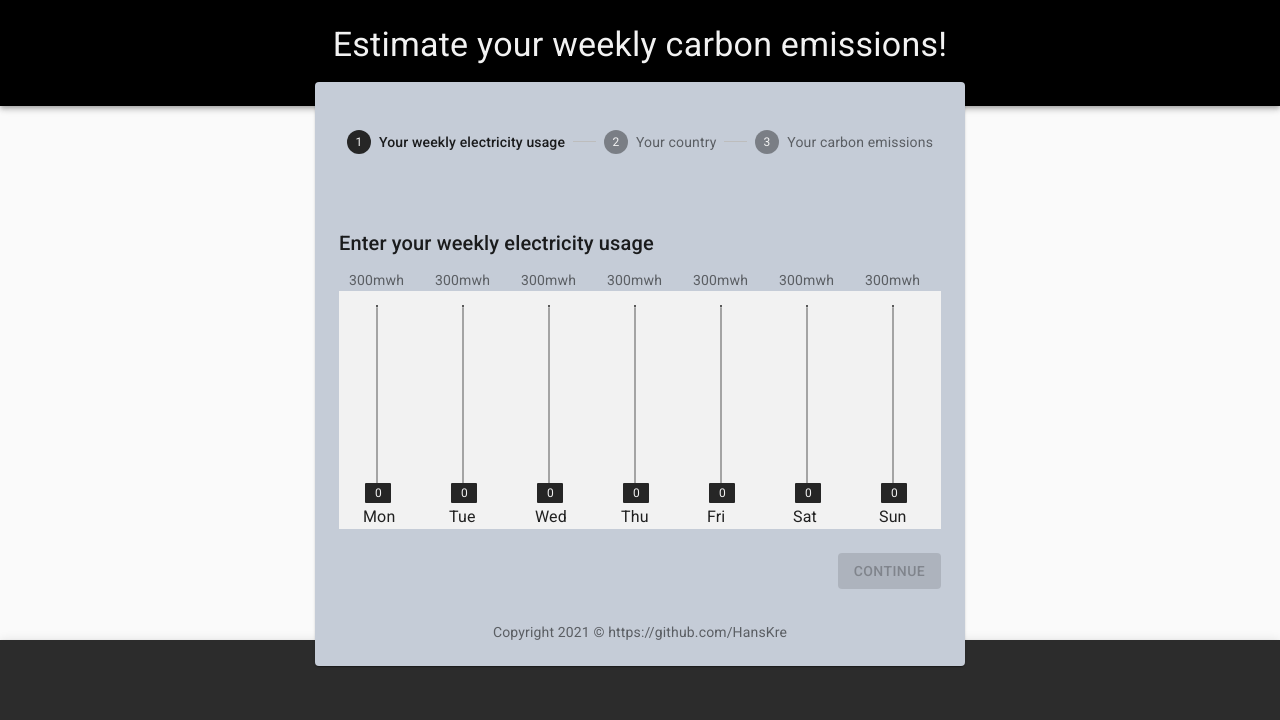
User Journey › Desktop › Emissions Interactions › continue-button should be disabled and back-button enabled
This screenshot has width=1280, height=720.
Click the 4th slider labelled "0" at (636, 493), box [623,483,649,503]
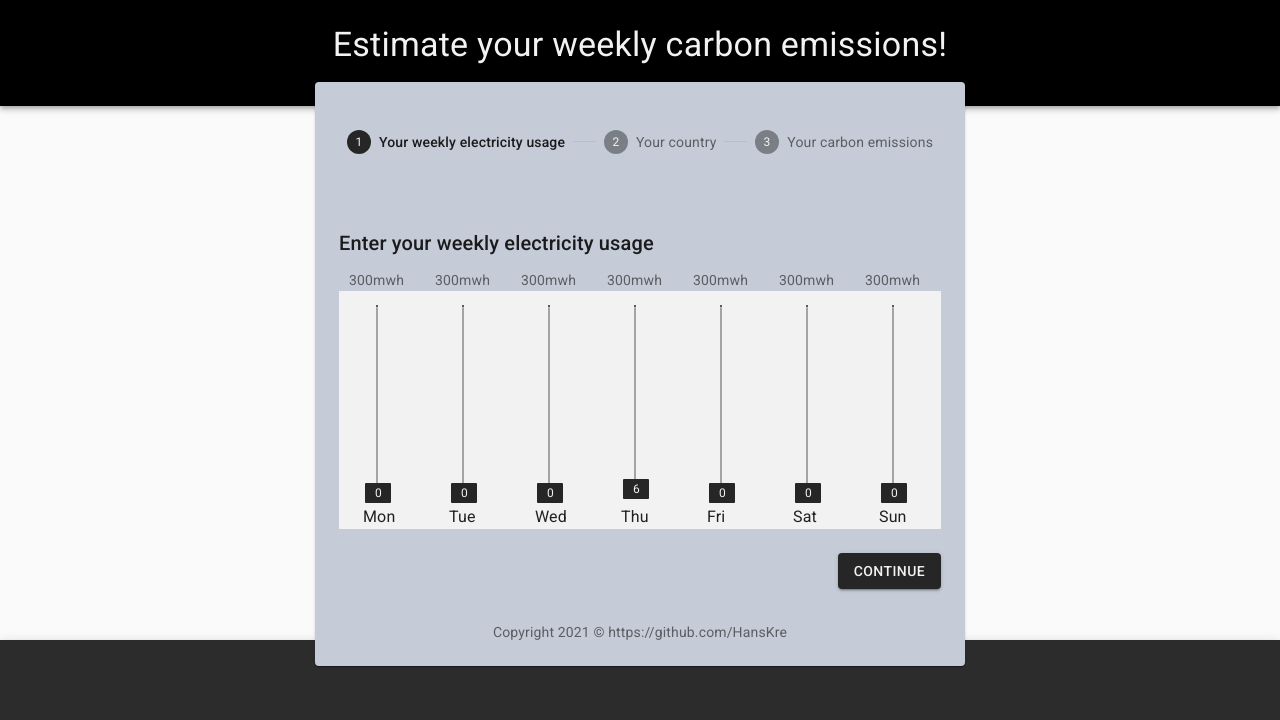
Click the button with id "continue-btn" at (890, 572), box [838,553,941,590]
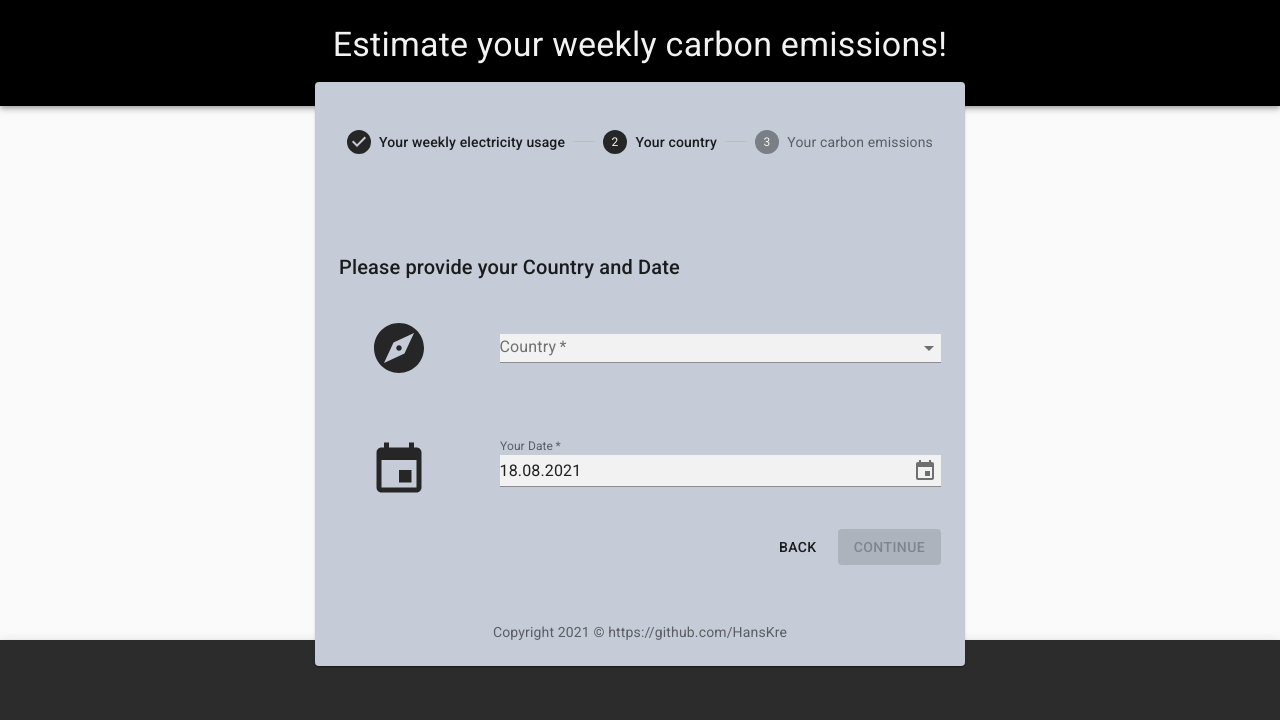
Check: the heading "Please provide your Country and Date" is shown, box [339,255,680,279]
Click the button with id "country-select" at (721, 349), box [500,334,942,363]
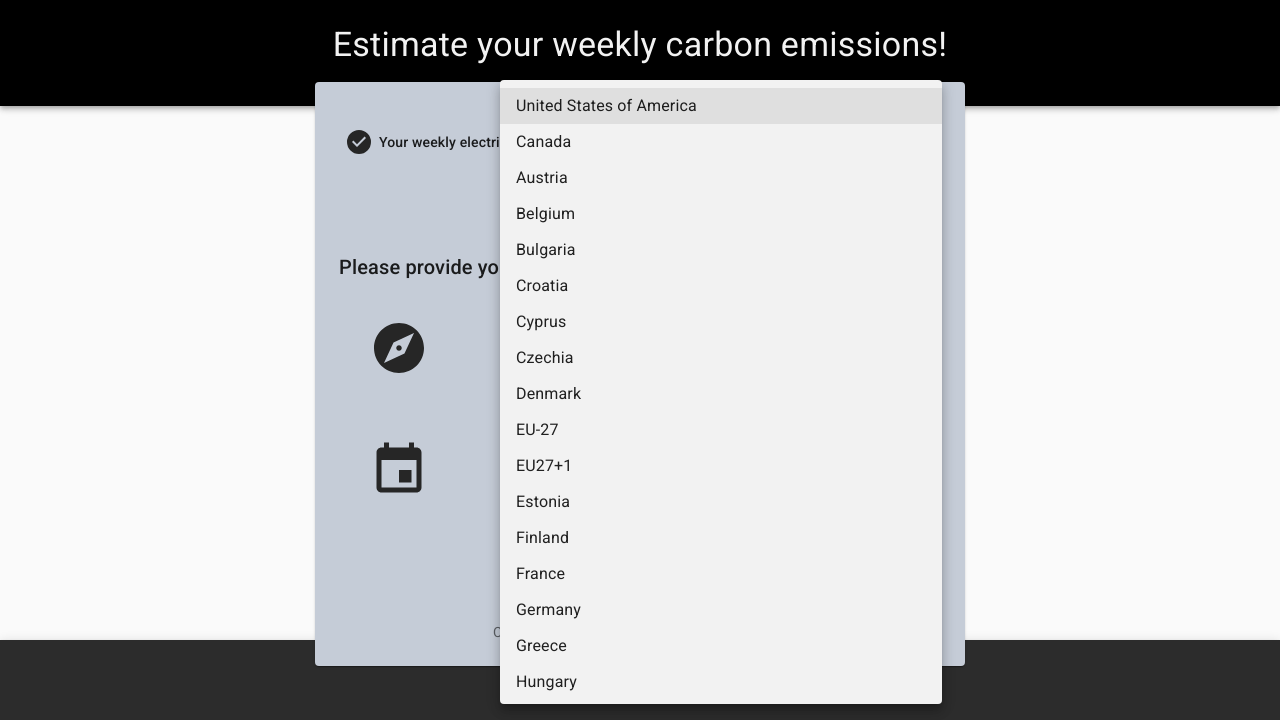
Click the option "United States of America" at (606, 106), box [500,88,942,124]
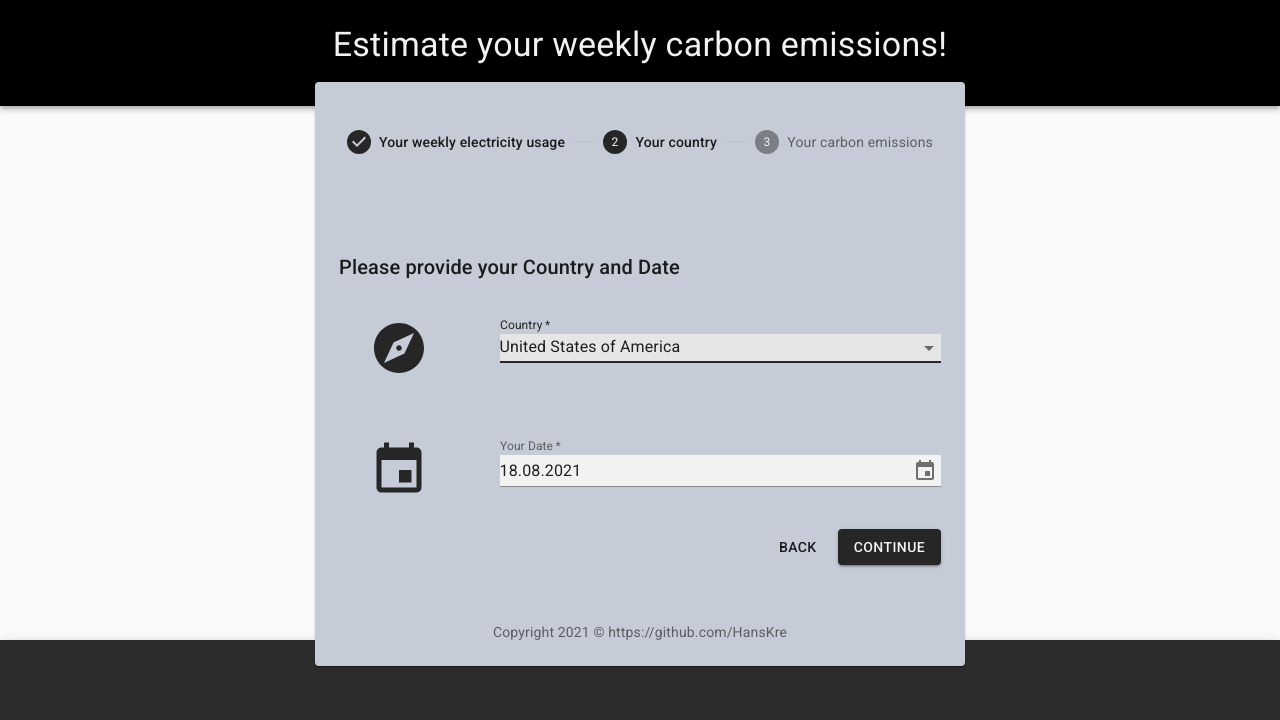
Click the button with id "continue-btn" at (890, 548), box [838,529,941,566]
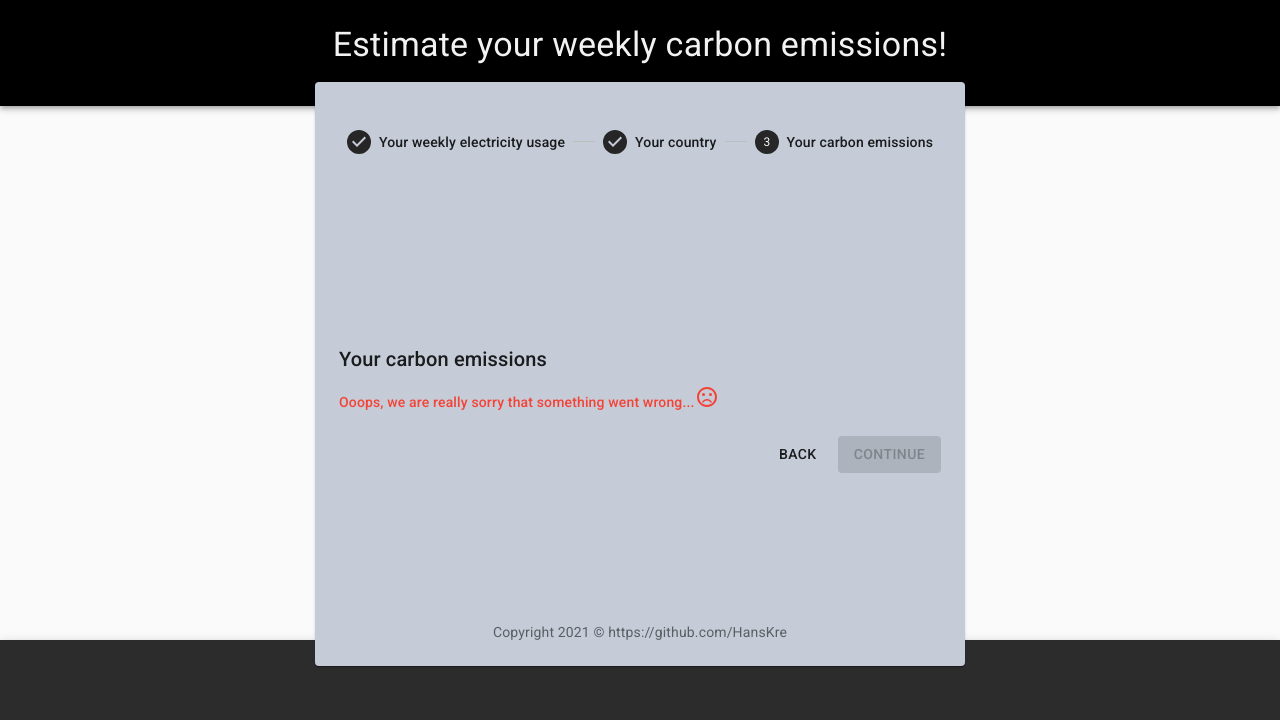
Check: the heading "Your carbon emissions" is shown, box [339,347,547,371]
